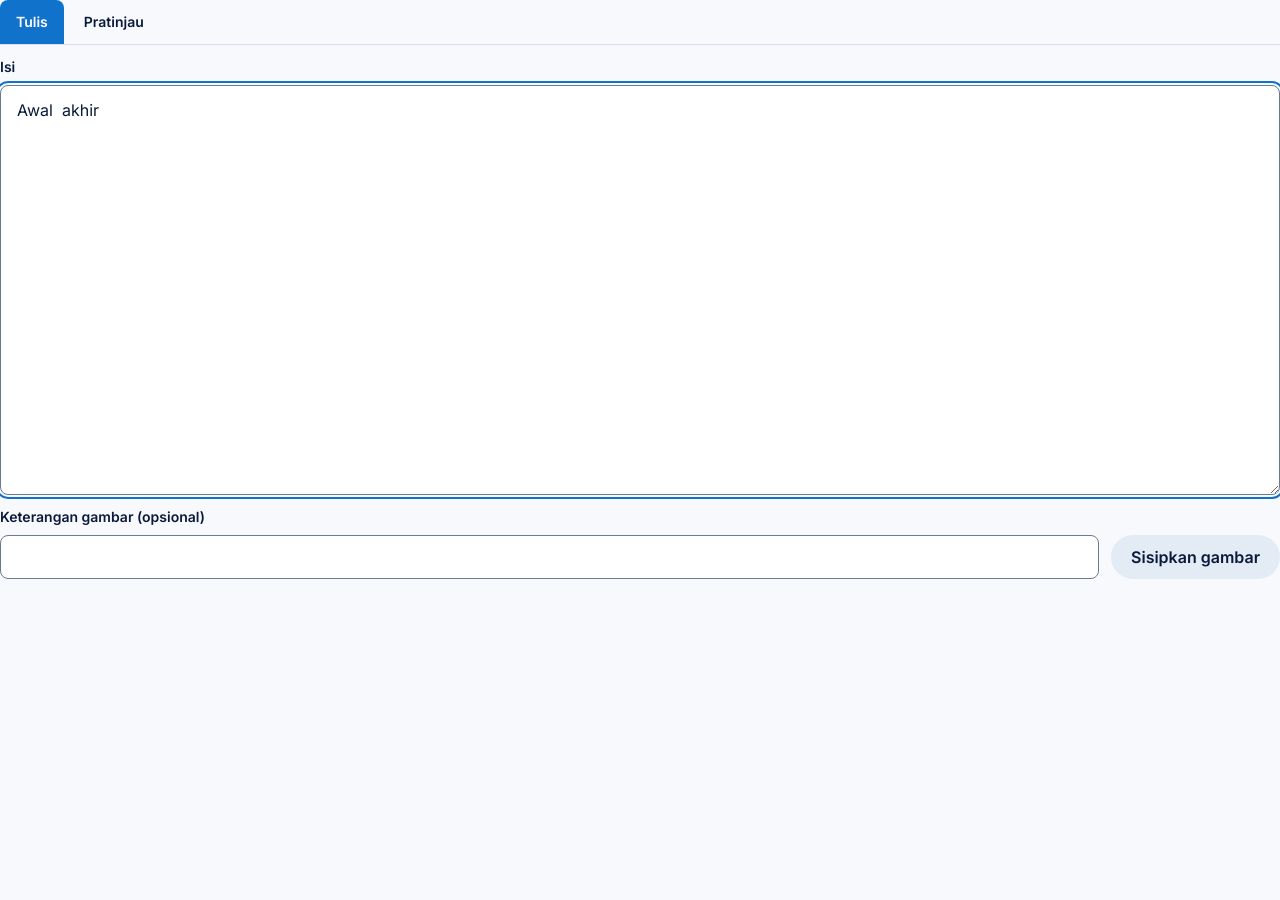
Test: MarkdownEditor › inserts the chosen image with its alt and caption at the cursor
In the field labelled "Keterangan gambar (opsional)": (550, 557) [0,535,1099,579], type "Rapat tim"
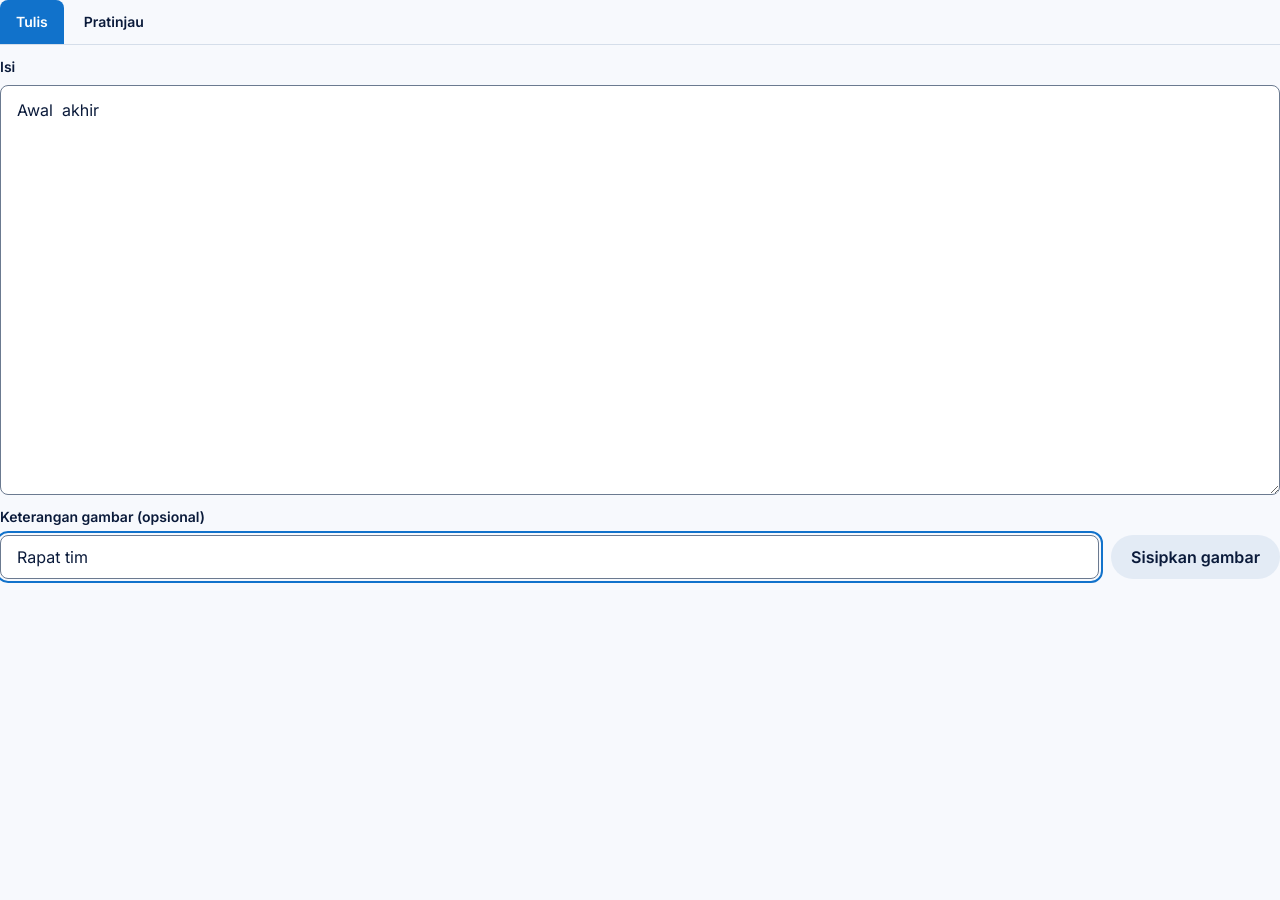
Click the button "Sisipkan gambar": (1196, 557) [1111,535,1279,579]
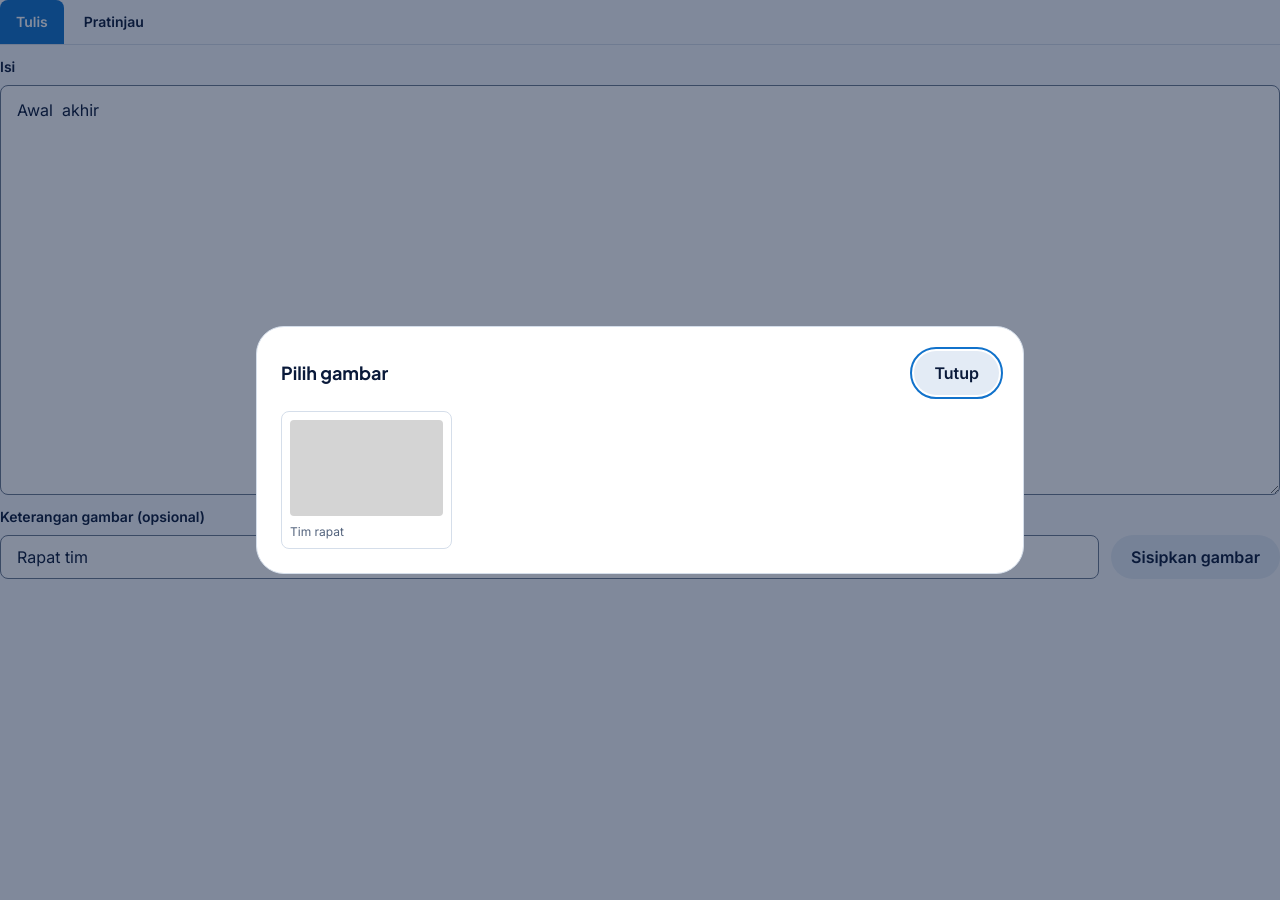
Click the button "Tim rapat": (366, 480) [281,411,452,549]
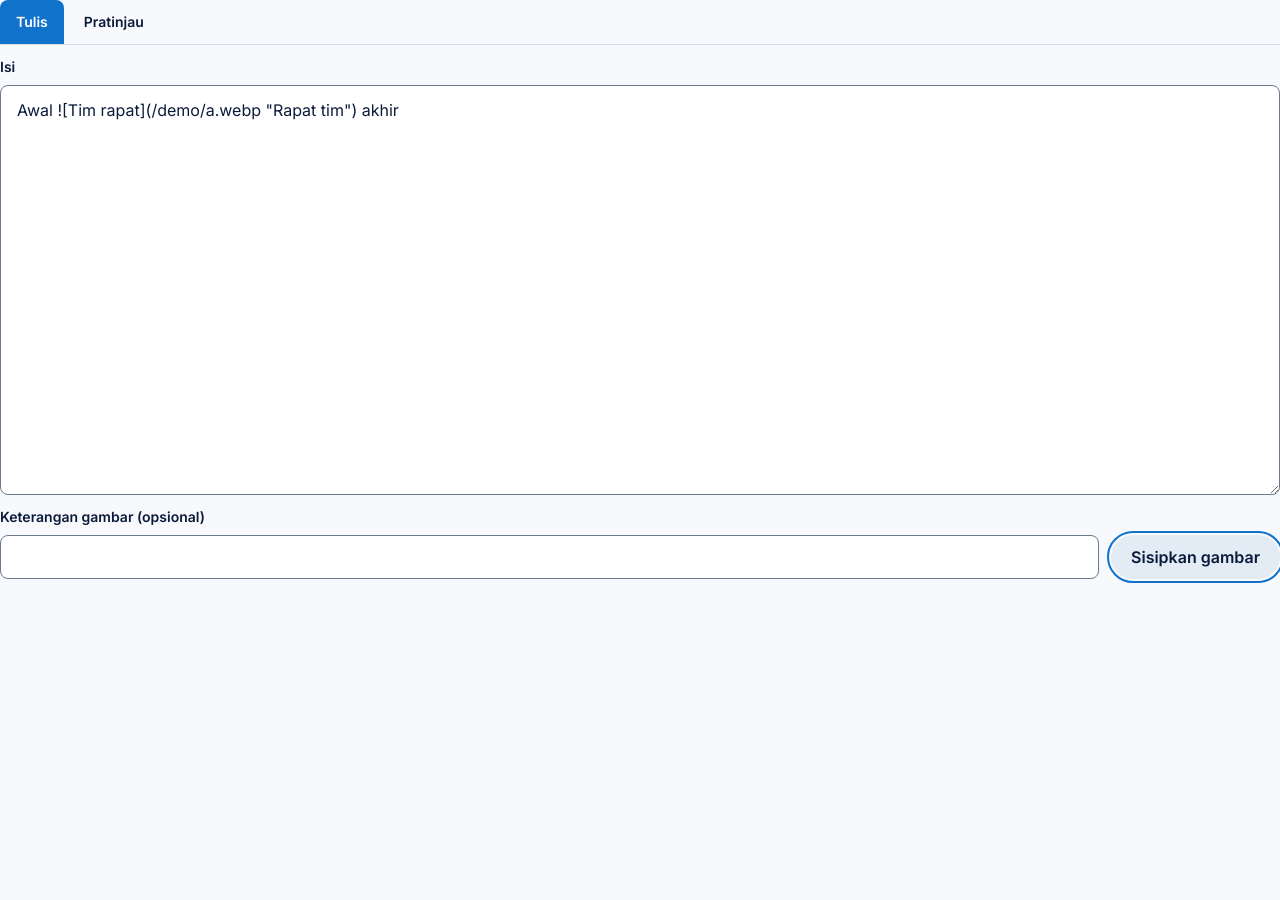
Now the text box labelled "Isi" holds "Awal ![Tim rapat](/demo/a.webp \"Rapat tim\") akhir", box [0,85,1279,495]
